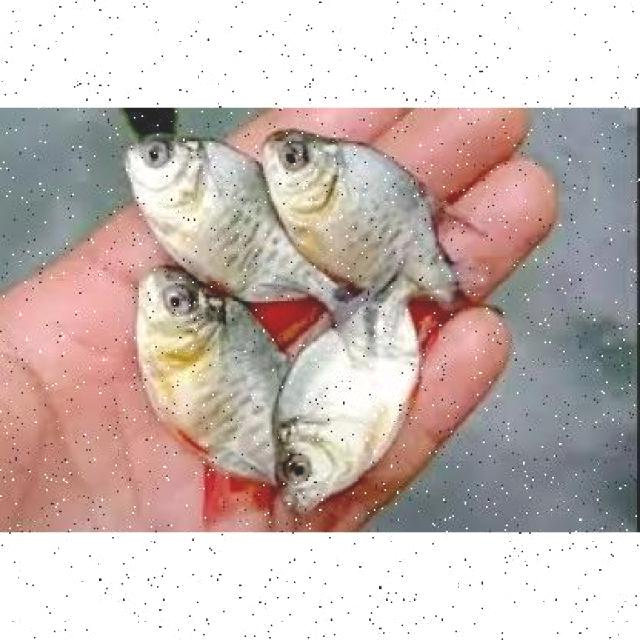ikan-pacu: (277, 294, 434, 512), (123, 272, 280, 482), (260, 123, 466, 283), (124, 121, 292, 282)
